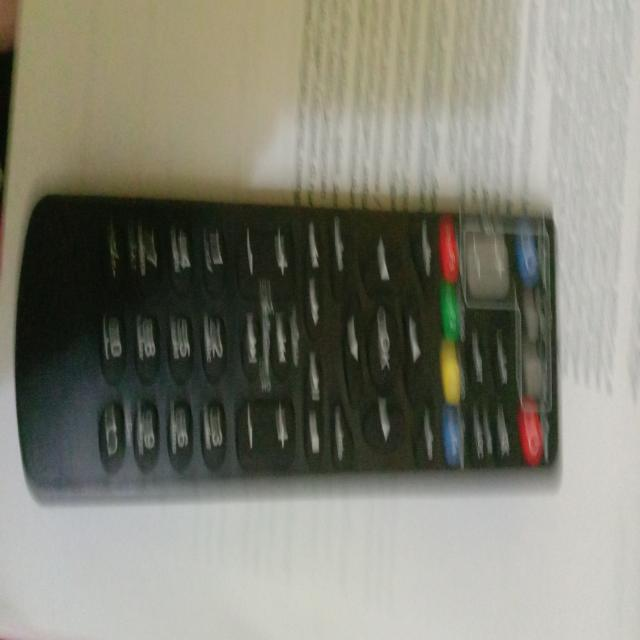remote: (8, 198, 569, 498)
